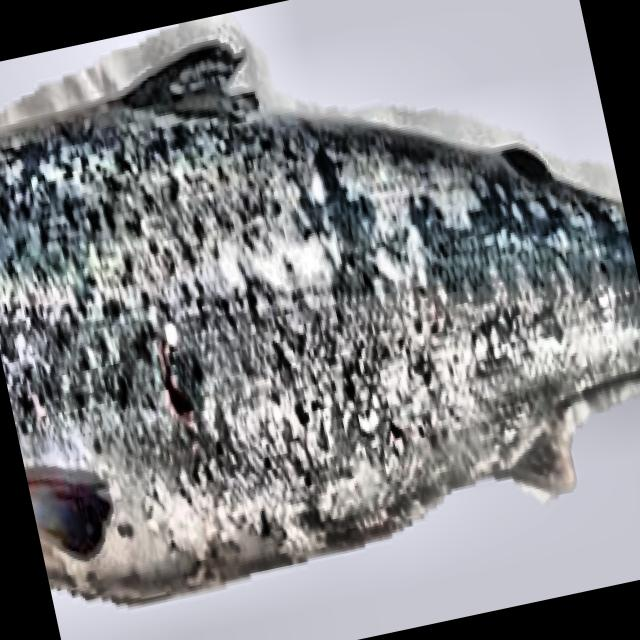mild_red: (0, 40, 640, 601)
